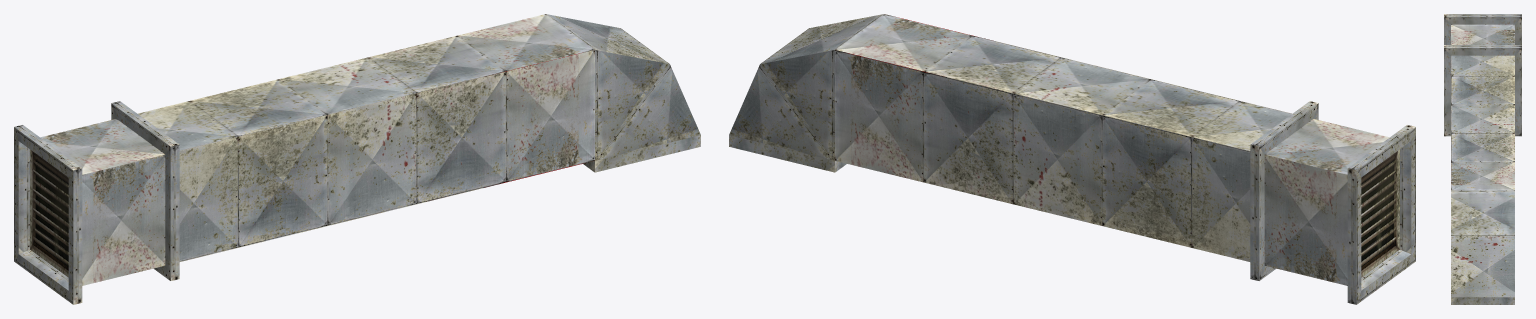
The model's file is vent_02.fbx.
3 views of the same model, side by side, from view 1: azimuth 30°, elevation 25°; view 2: azimuth 150°, elevation 25°; view 3: azimuth 270°, elevation 25° (orthographic). The views are drawn at different scales.
Visible parts, largest first — view 1: vent_02; view 2: vent_02; view 3: vent_02.
Part boxes in pixels (left/top/right/bottom): vent_02: left=14, top=14, right=700, bottom=304; vent_02: left=729, top=14, right=1415, bottom=304; vent_02: left=1444, top=14, right=1521, bottom=304.
Size of the model in its own units: 4.86 by 0.9881 by 0.7905.
